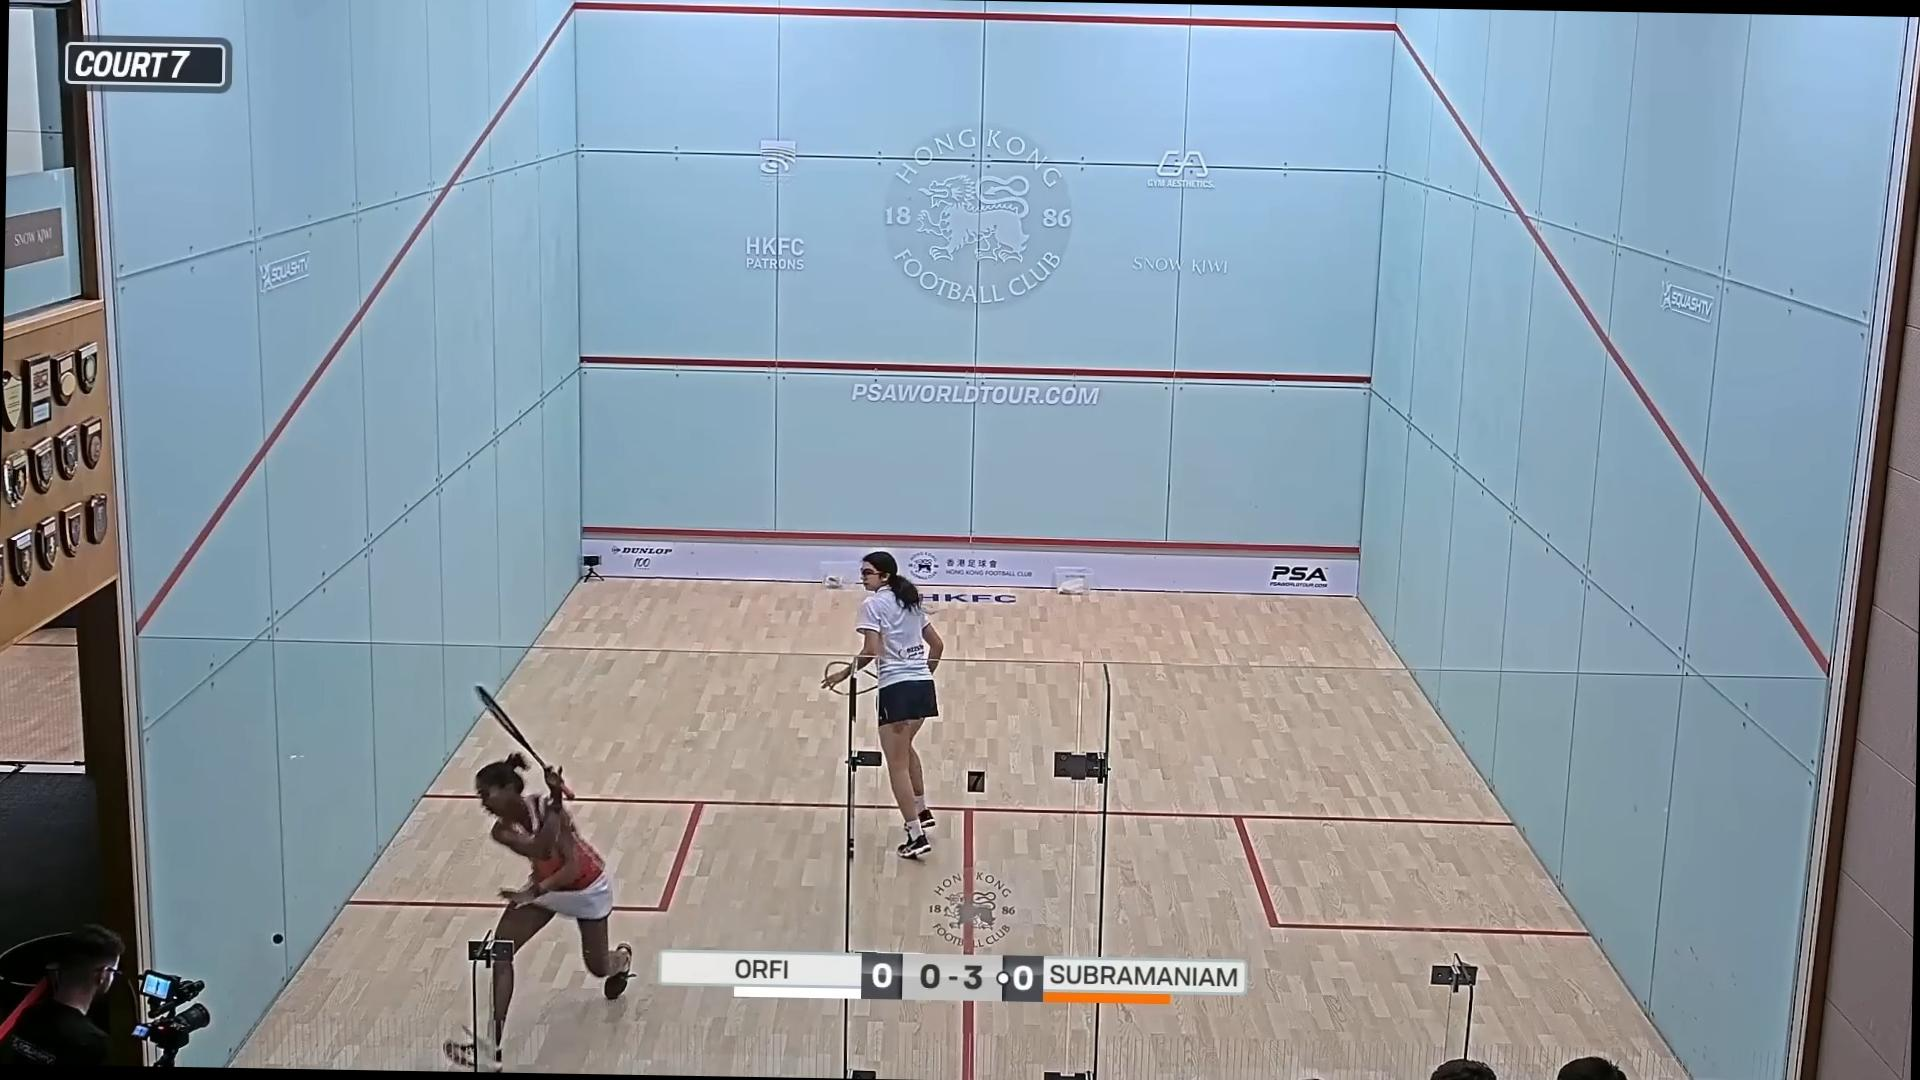Squash-Ball: (262, 911, 294, 964)
